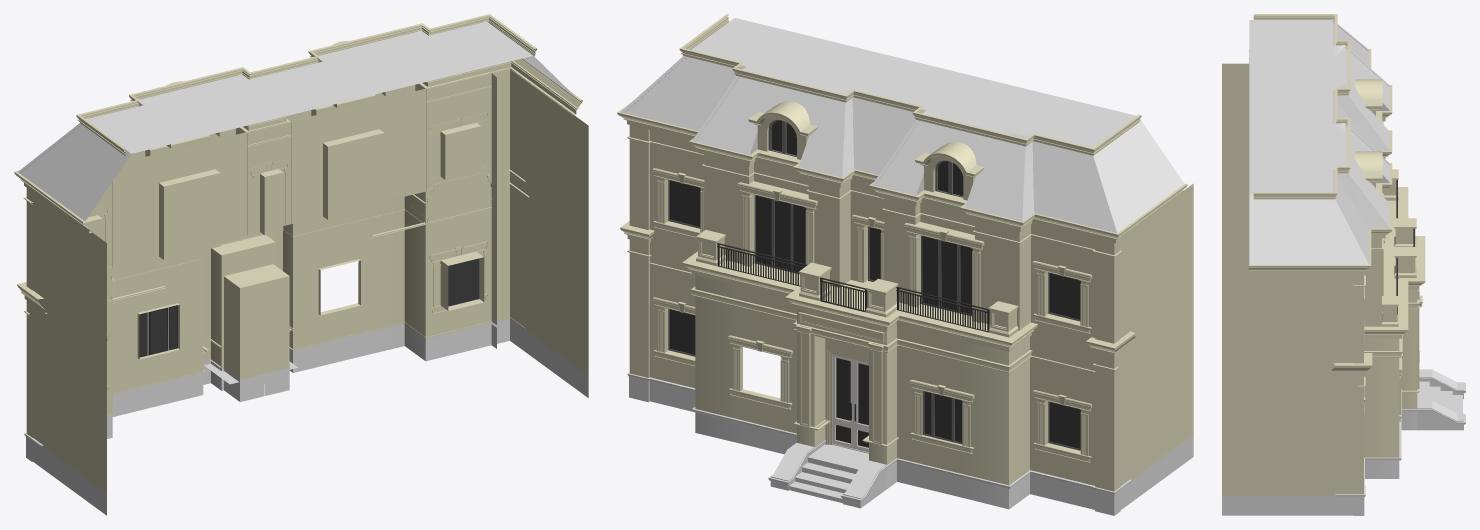
Rendered from classic_house.fbx.
The picture shows the model from 3 angles, left to right: view 1: azimuth 30°, elevation 25°; view 2: azimuth 150°, elevation 25°; view 3: azimuth 270°, elevation 25°; orthographic projection. The views are drawn at different scales.
Parts seen in each view (by area): view 1: Main, Cube.002, Plane.007, Plane.017, Plane.009, Plane.008; view 2: Main, Cube.002, Plane.007, Plane.008, Plane.011, Plane.013, Plane.009, Plane.017, Plane.004, Plane.016, Plane.012, Plane.010 (+4 smaller); view 3: Main, Cube.002, Plane.007, Plane.008, Plane.011, Plane.017, Plane.009.
Boxes of the visible parts, x1=… form: Main: x1=26, y1=67, x2=588, y2=515; Cube.002: x1=18, y1=21, x2=579, y2=221; Plane.007: x1=14, y1=41, x2=582, y2=267; Plane.017: x1=76, y1=14, x2=536, y2=156; Plane.009: x1=23, y1=85, x2=491, y2=352; Plane.008: x1=17, y1=169, x2=529, y2=447; Main: x1=629, y1=125, x2=1193, y2=515; Cube.002: x1=621, y1=18, x2=1184, y2=233; Plane.007: x1=617, y1=101, x2=1187, y2=330; Plane.008: x1=620, y1=221, x2=1135, y2=502; Plane.011: x1=770, y1=443, x2=886, y2=508; Plane.013: x1=737, y1=181, x2=984, y2=322; Plane.009: x1=627, y1=135, x2=1121, y2=447; Plane.017: x1=679, y1=14, x2=1141, y2=155; Plane.004: x1=728, y1=335, x2=974, y2=454; Plane.016: x1=832, y1=354, x2=868, y2=453; Plane.012: x1=652, y1=168, x2=1092, y2=333; Plane.010: x1=652, y1=297, x2=1092, y2=462; Main: x1=1222, y1=63, x2=1419, y2=515; Cube.002: x1=1249, y1=19, x2=1390, y2=264; Plane.007: x1=1249, y1=49, x2=1392, y2=326; Plane.008: x1=1328, y1=187, x2=1465, y2=497; Plane.011: x1=1417, y1=369, x2=1463, y2=430; Plane.017: x1=1253, y1=14, x2=1350, y2=199; Plane.009: x1=1352, y1=121, x2=1422, y2=392.
Bounding box in the file's own units: 1849 × 1221 × 879.
